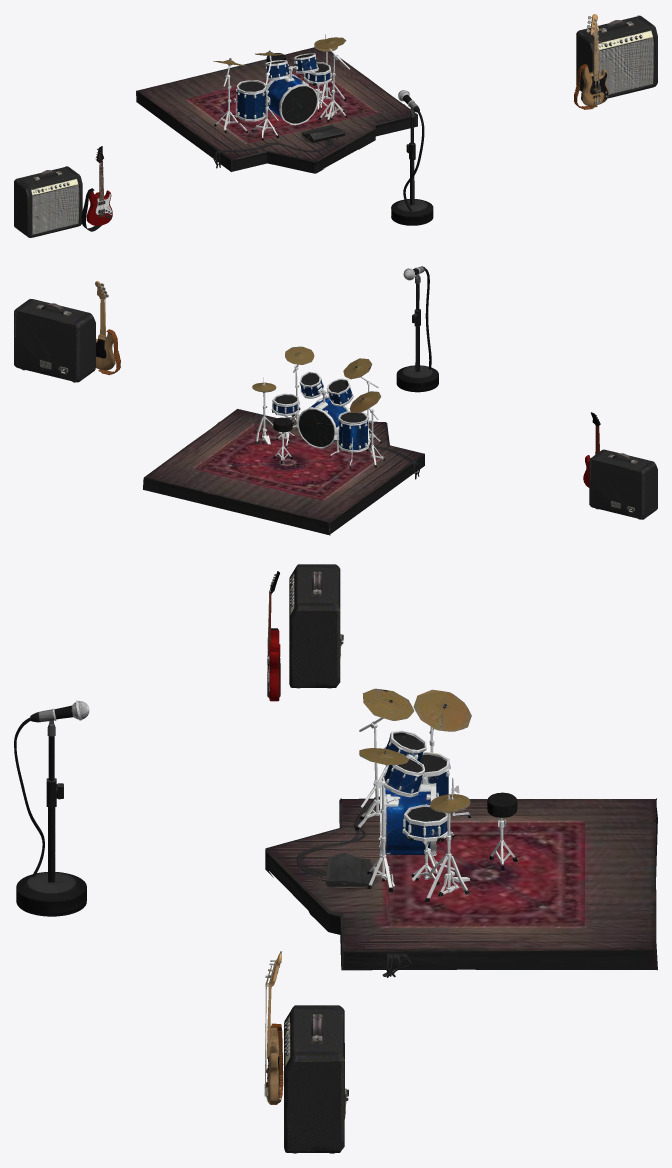
Rendered from stage-DEfUD74s.glb.
3 views of the same model, one above another, from view 1: azimuth 30°, elevation 25°; view 2: azimuth 150°, elevation 25°; view 3: azimuth 270°, elevation 25° (orthographic). The views are drawn at different scales.
Parts seen in each view (by area): view 1: prop-riser, prop-drums, prop-amp-bass, prop-amp-guitar, prop-mic, rest-bass, rest-guitar; view 2: prop-riser, prop-drums, prop-amp-bass, prop-amp-guitar, prop-mic, rest-bass; view 3: prop-riser, prop-drums, prop-amp-bass, prop-amp-guitar, prop-mic, rest-bass, rest-guitar.
Part boxes in pixels (x1,y1,x2,y2): prop-riser: [136, 47, 417, 173]; prop-drums: [213, 34, 349, 140]; prop-amp-bass: [576, 15, 657, 98]; prop-amp-guitar: [14, 166, 82, 237]; prop-mic: [391, 90, 433, 225]; rest-bass: [574, 14, 608, 109]; rest-guitar: [81, 146, 112, 231]; prop-riser: [143, 409, 424, 535]; prop-drums: [252, 346, 384, 467]; prop-amp-bass: [14, 299, 95, 382]; prop-amp-guitar: [589, 449, 657, 519]; prop-mic: [396, 266, 438, 392]; rest-bass: [95, 281, 120, 375]; prop-riser: [265, 796, 657, 977]; prop-drums: [355, 688, 517, 902]; prop-amp-bass: [284, 1005, 348, 1153]; prop-amp-guitar: [289, 564, 343, 688]; prop-mic: [14, 700, 89, 916]; rest-bass: [264, 951, 283, 1104]; rest-guitar: [267, 571, 280, 701].
Size of the model in its own units: 7.08 by 1.29 by 3.77.
7 materials, 7 textured.
